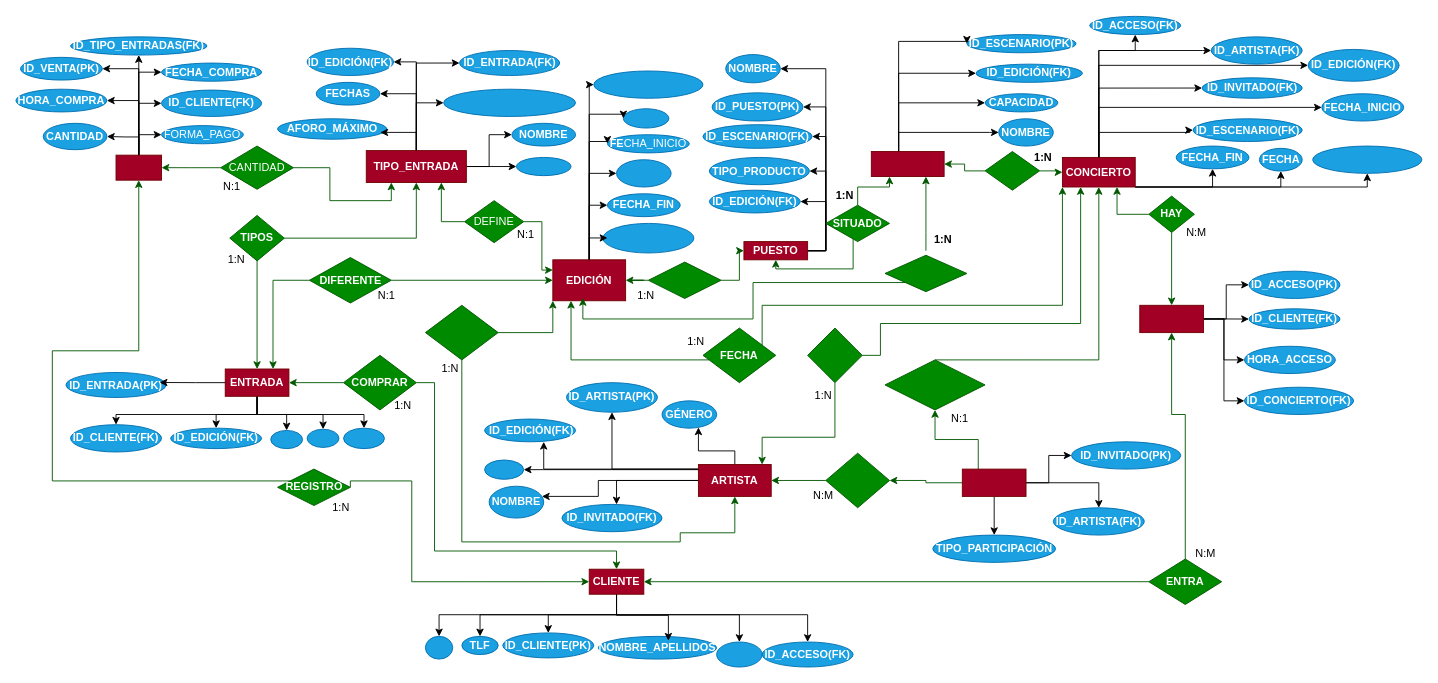
This 1438x683 diagram has some shape labels left out. Here are the shapes that lost their labels. From the top down, the centre of each, then its label:
At (509,102): "ID_TIPO_ENTRADA(PK)".
At (648,84): "CÓDIGO_EDICIÓN".
At (645,118): "CIUDAD".
At (138,167): "VENTA".
At (543,166): "PRECIO".
At (643,173): "RECINTO".
At (907,164): "ESCENARIO".
At (1012,170): "TIENE".
At (1367,159): "ID_CONCIERTO(PK)".
At (648,237): "ID_EDICIÓN(PK)".
At (684,279): "ASOCIADO".
At (925,273): "PERTENECE".
At (461,332): "PARTICIPA".
At (1171,318): "ACCESO".
At (834,355): "ACTUA".
At (934,384): "PUEDE_HABER".
At (286,439): "DÍA".
At (322,437): "VIP".
At (363,438): "ABONO".
At (504,469): "PAÍS".
At (857,480): "LLEVA".
At (993,482): "INVITADO".
At (439,647): "DNI".
At (739,654): "EMAIL".
